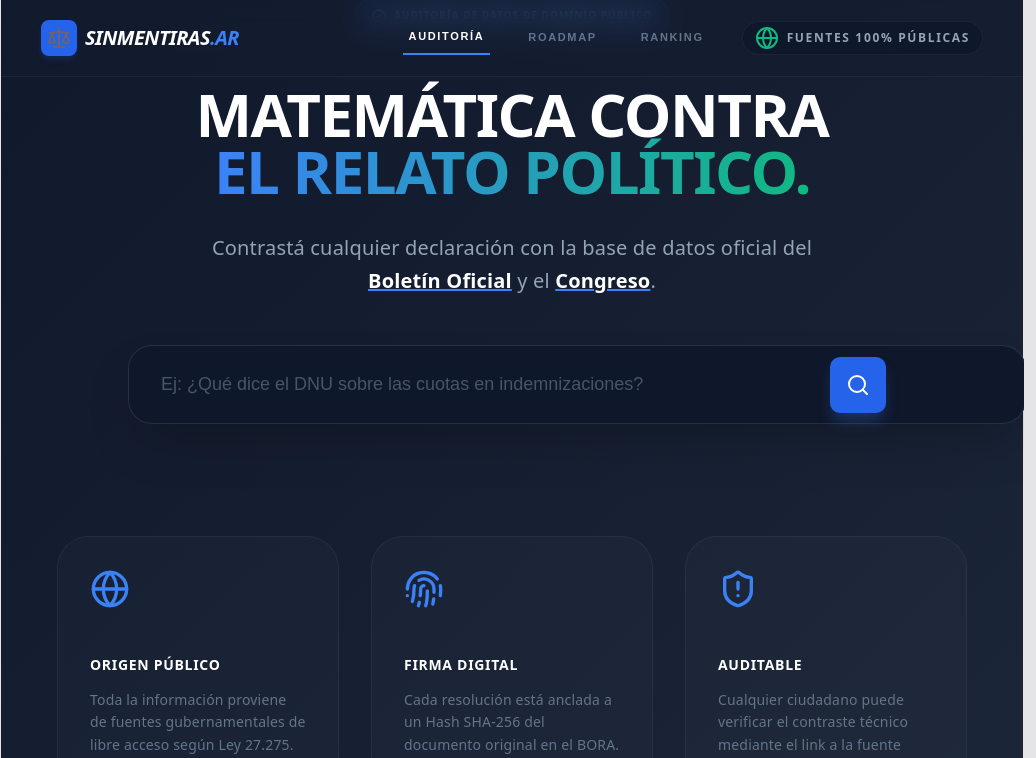
Test case: App - Error handling › maneja error cuando resolveQuery falla
(page scrolled)
Type "test query" into the field with placeholder "Ej: ¿Qué dice el DNU sobre las cuotas en indemnizaciones?" at {"x": 576, "y": 385}, box [128,345,1024,424]
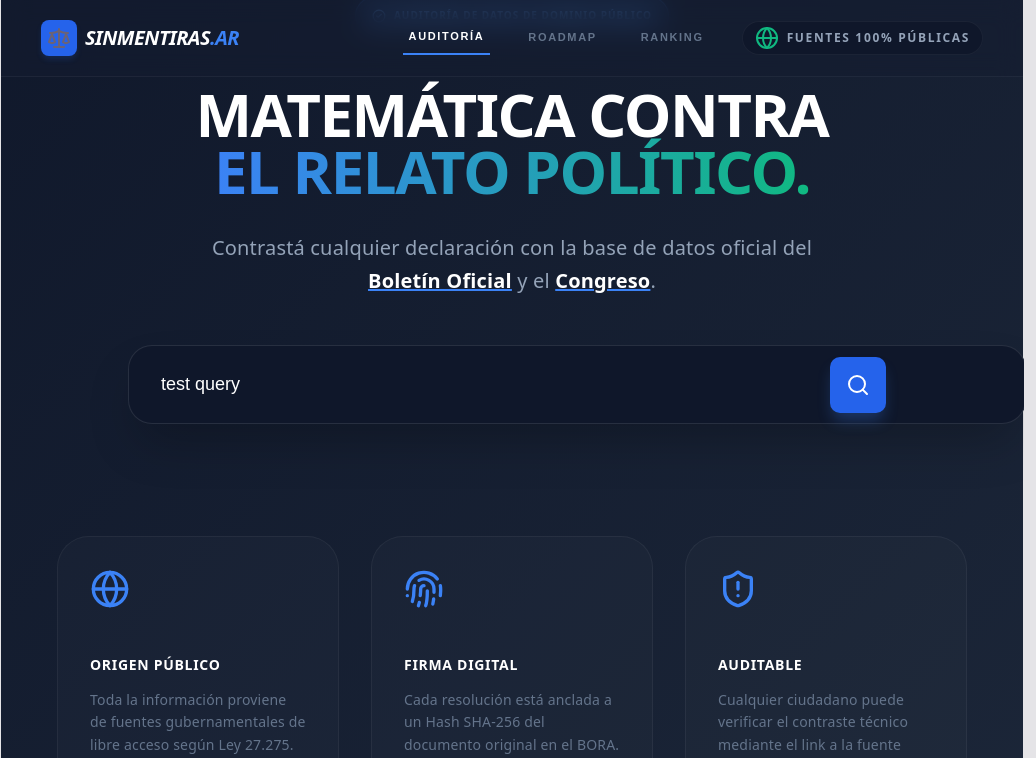
Click the submit button at {"x": 858, "y": 385}, box [830,357,886,413]
Wait 1200 ms
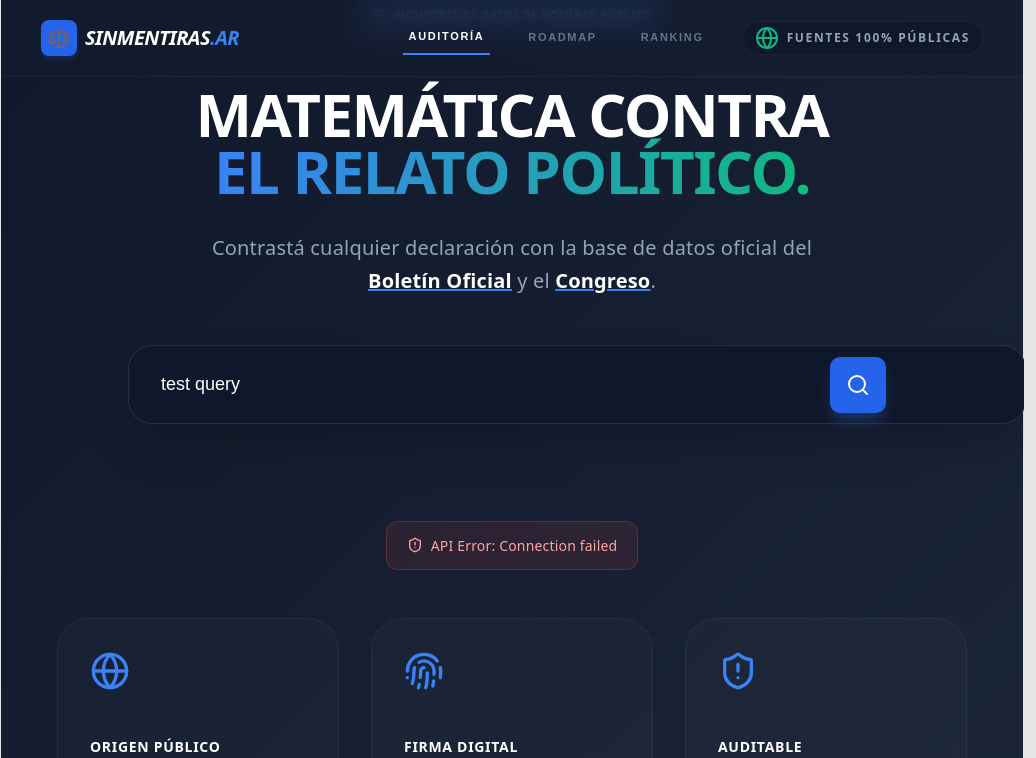
Now the text "API Error: Connection failed" is shown, box [386,521,638,570]
